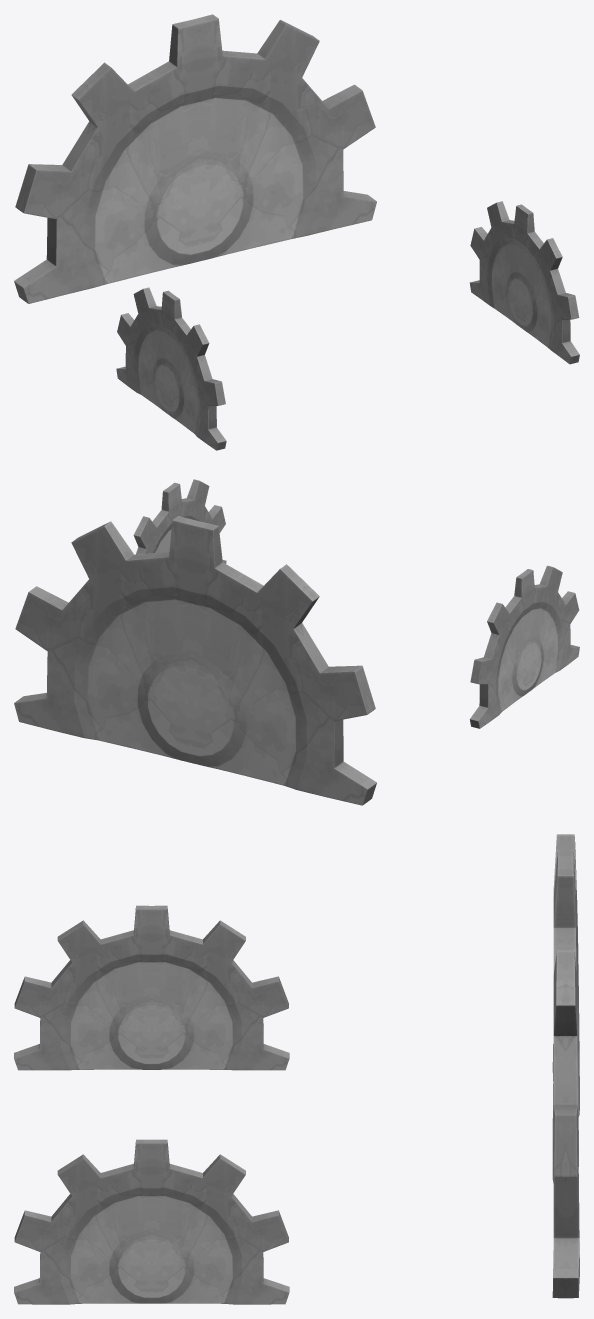
File: obj_wall_alt.gltf
3 renders of one model, top to bottom at view 1: azimuth 30°, elevation 25°; view 2: azimuth 150°, elevation 25°; view 3: azimuth 270°, elevation 25°, orthographic. The views are drawn at different scales.
Visible parts, largest first — view 1: obj_wall_alt; view 2: obj_wall_alt; view 3: obj_wall_alt.
Boxes of the visible parts, bbox=[...] form: obj_wall_alt: bbox=[14, 14, 579, 450]; obj_wall_alt: bbox=[14, 479, 579, 805]; obj_wall_alt: bbox=[14, 834, 579, 1304].
Size of what is drawn, in the model's own units: 15.47 by 9.66 by 15.4.
Materials: 1 (1 with a texture image).
